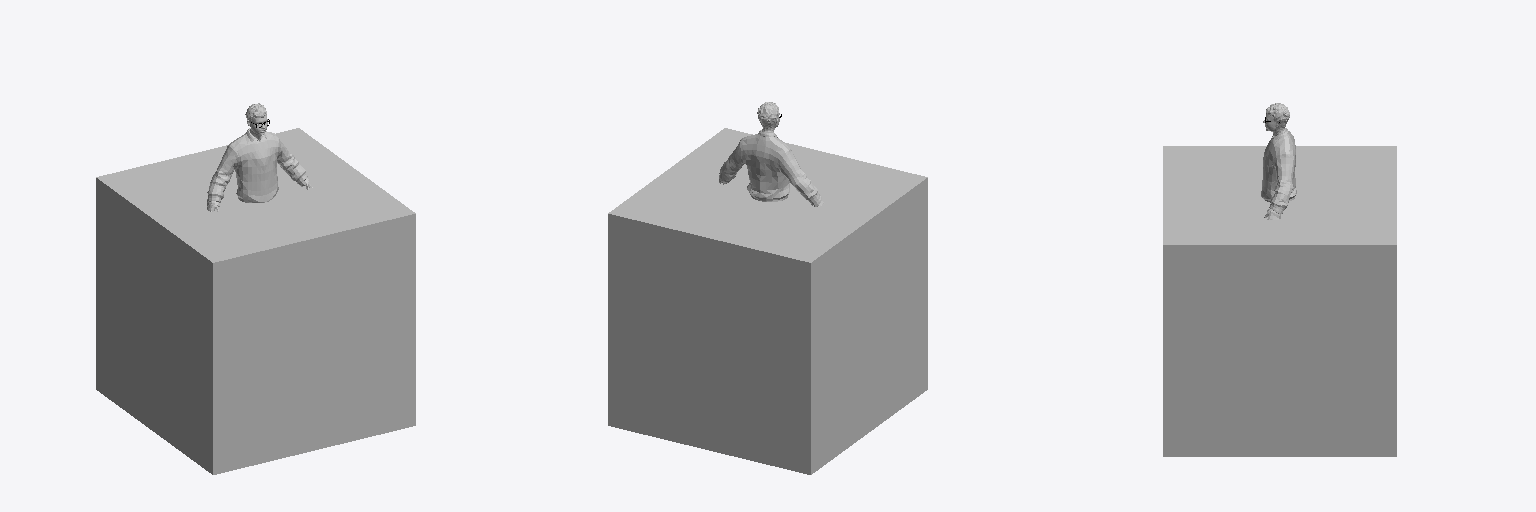
The model's file is lingohands.obj.
3 renders of one model, left to right at view 1: azimuth 30°, elevation 25°; view 2: azimuth 150°, elevation 25°; view 3: azimuth 270°, elevation 25°, orthographic.
Parts seen in each view (by area): view 1: Cube, Wolf3D_Outfit_Top; view 2: Cube, Wolf3D_Outfit_Top; view 3: Cube, Wolf3D_Outfit_Top.
Part boxes in pixels (left/top/right/bottom): Cube: left=96, top=128, right=415, bottom=474; Wolf3D_Outfit_Top: left=207, top=128, right=309, bottom=206; Cube: left=608, top=128, right=927, bottom=474; Wolf3D_Outfit_Top: left=719, top=130, right=821, bottom=206; Cube: left=1163, top=146, right=1396, bottom=456; Wolf3D_Outfit_Top: left=1261, top=128, right=1296, bottom=218.
Bounding box in the file's own units: 2 × 2.86 × 2.